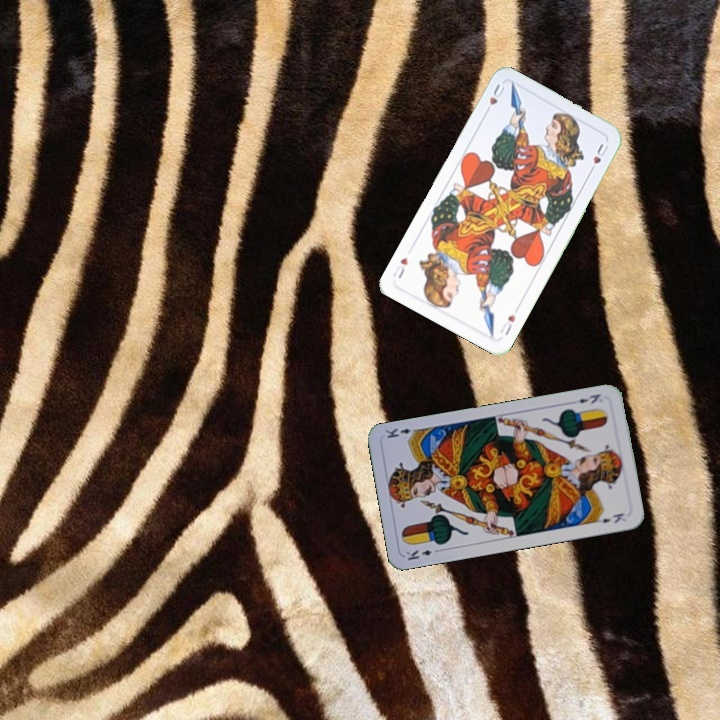EK: (402, 545, 443, 563), (575, 390, 603, 406)
HU: (481, 80, 507, 117), (496, 310, 518, 338)
